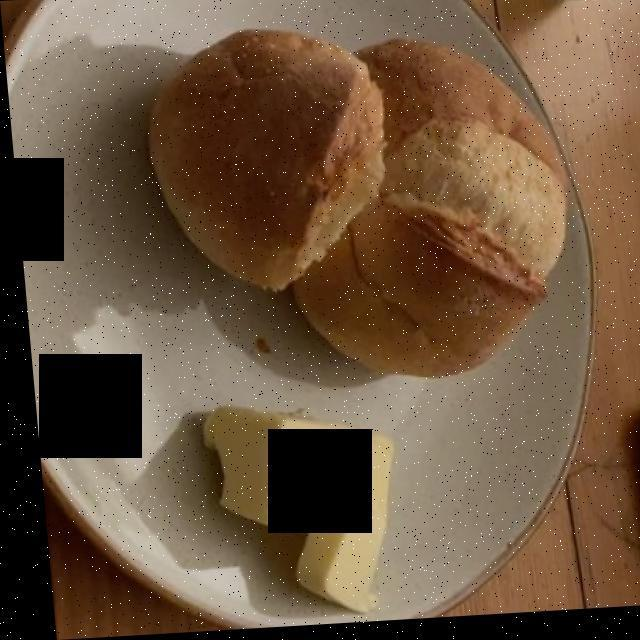bread: (153, 35, 563, 377)
butter: (193, 410, 382, 604)
